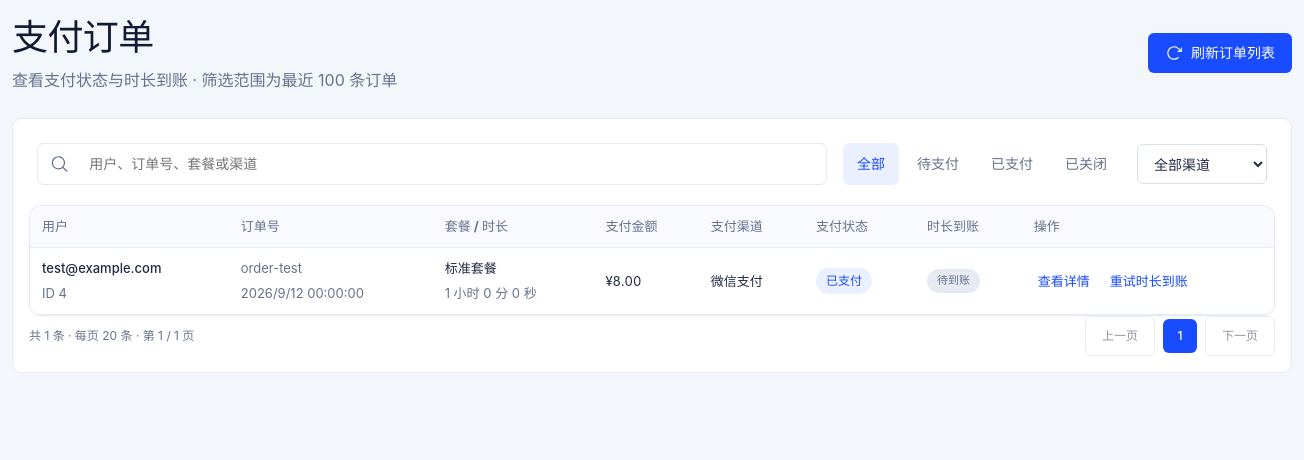
Test: payment management › shows user identity and retries fulfillment through a server query
expect the column heading "test@example.com" is shown: met, box [42,260,162,276]
Click the button "重试时长到账" at (1149, 281), box [1106,267,1192,295]
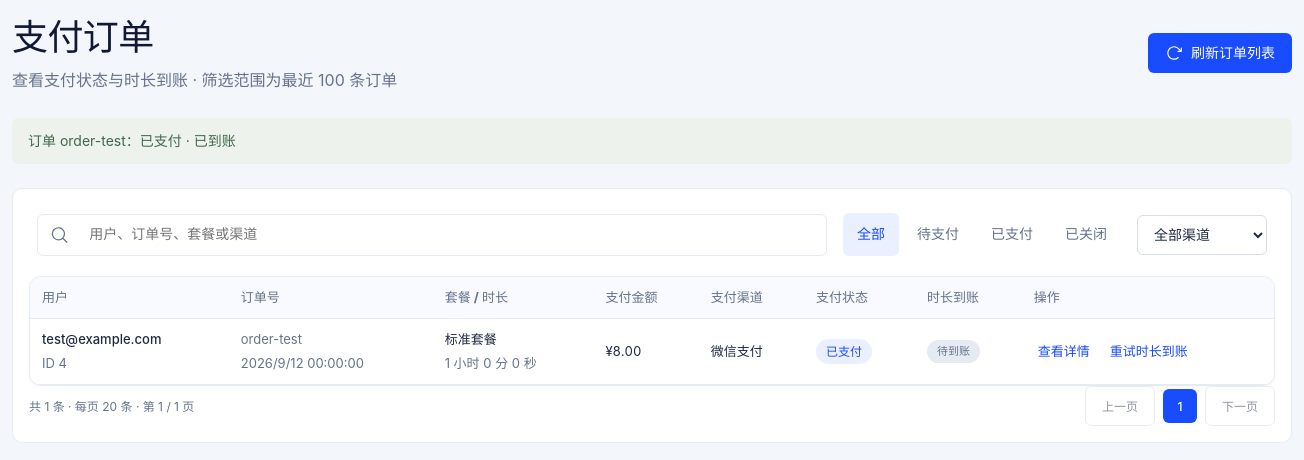
expect the message "订单 order-test：已支付 · 已到账" is shown: met, box [12,118,1292,164]
